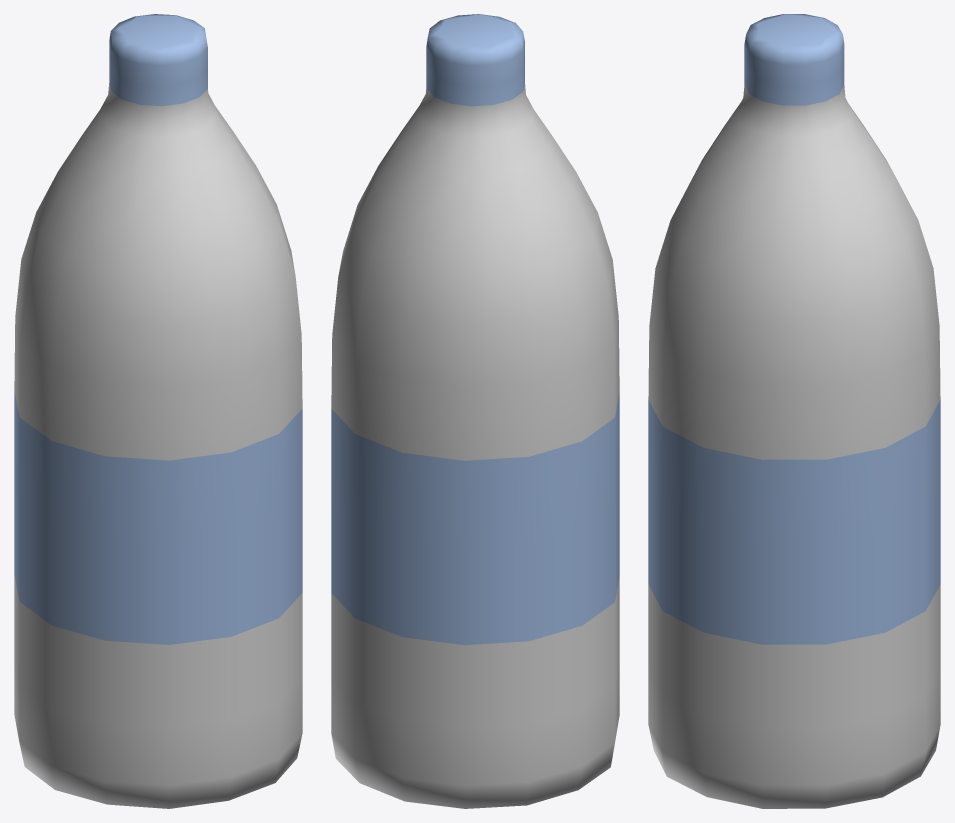
The model's file is Bottle_5.fbx.
3 renders of one model, left to right at view 1: azimuth 30°, elevation 25°; view 2: azimuth 150°, elevation 25°; view 3: azimuth 270°, elevation 25°, orthographic.
Visible parts, largest first — view 1: Bottle_5.001; view 2: Bottle_5.001; view 3: Bottle_5.001.
Part boxes in pixels (box(x1,y1,x2,y2)): Bottle_5.001: box(14, 14, 302, 808); Bottle_5.001: box(331, 14, 619, 808); Bottle_5.001: box(648, 14, 940, 808).
Size of the model in its own units: 9.94 by 28 by 10.19.
